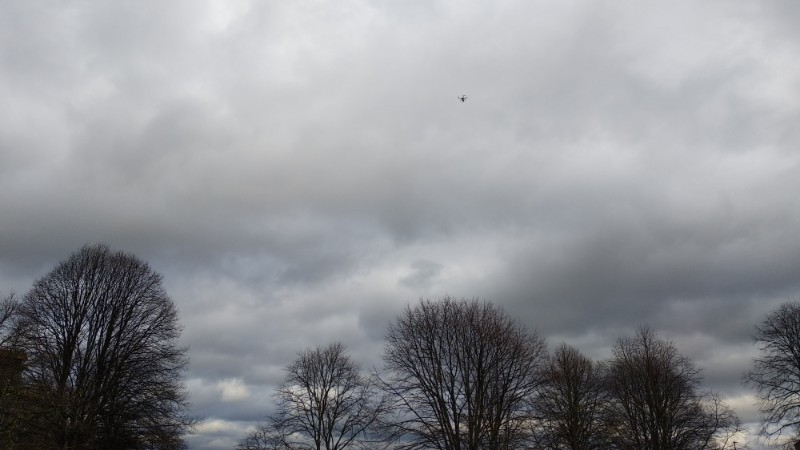drone: (459, 95, 468, 103)
